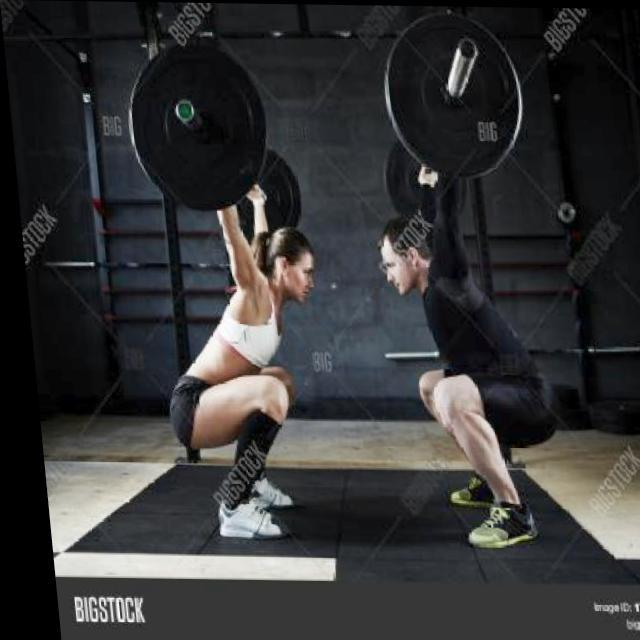barbell: (111, 34, 282, 224), (375, 7, 531, 186)
